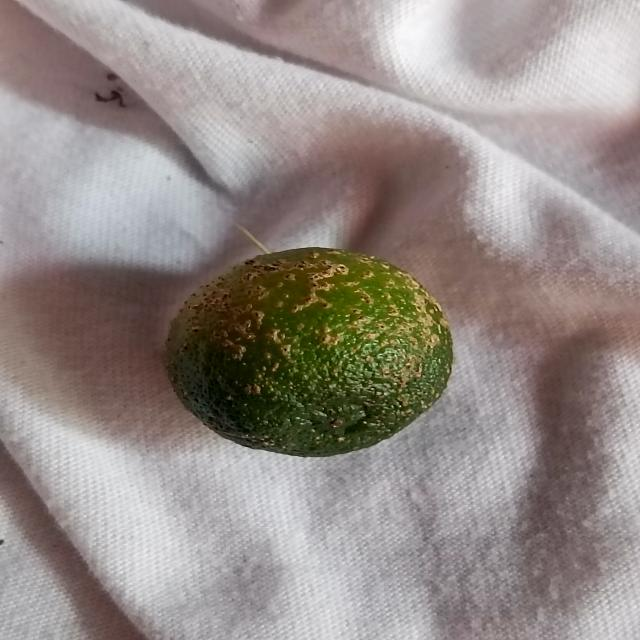scab: (170, 238, 452, 466)
